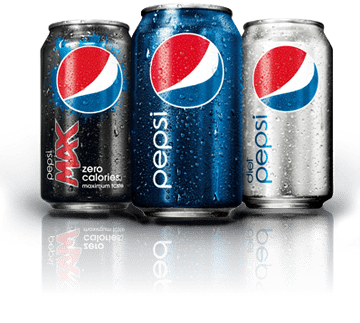pepsi: (147, 30, 226, 107), (147, 32, 226, 107), (55, 44, 123, 115), (55, 46, 123, 115), (252, 43, 318, 111)
